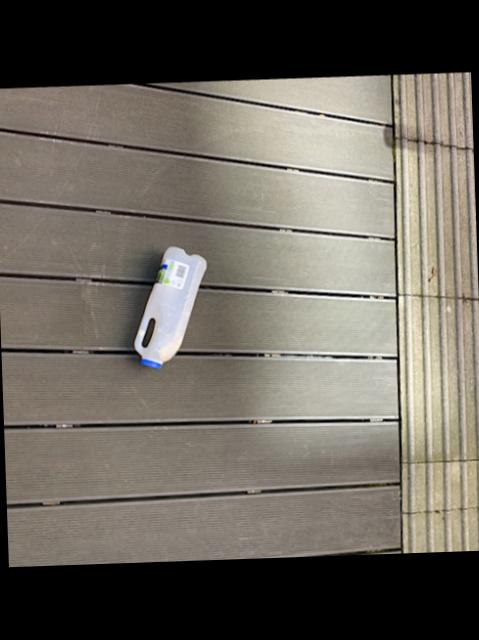plastic: (134, 249, 206, 370)
